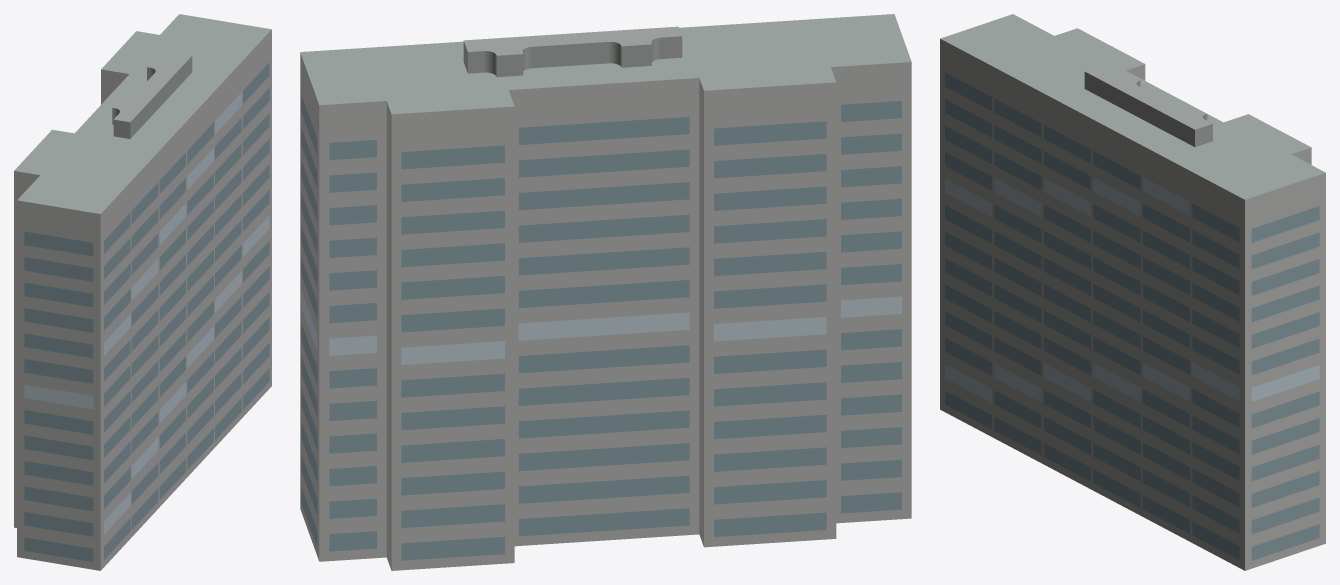
The model's file is fallback-gaepo-raemian-forest-110.glb.
3 renders of one model, left to right at view 1: azimuth 30°, elevation 25°; view 2: azimuth 150°, elevation 25°; view 3: azimuth 270°, elevation 25°, orthographic. The views are drawn at different scales.
Visible parts, largest first — view 1: fallback-gaepo-raemian-forest-110; view 2: fallback-gaepo-raemian-forest-110; view 3: fallback-gaepo-raemian-forest-110.
Part boxes in pixels (x1,y1,x2,y2): fallback-gaepo-raemian-forest-110: (14,14,271,570); fallback-gaepo-raemian-forest-110: (300,14,911,570); fallback-gaepo-raemian-forest-110: (940,14,1325,570).
Size of the model in its own units: 45.15 by 44 by 39.59.
